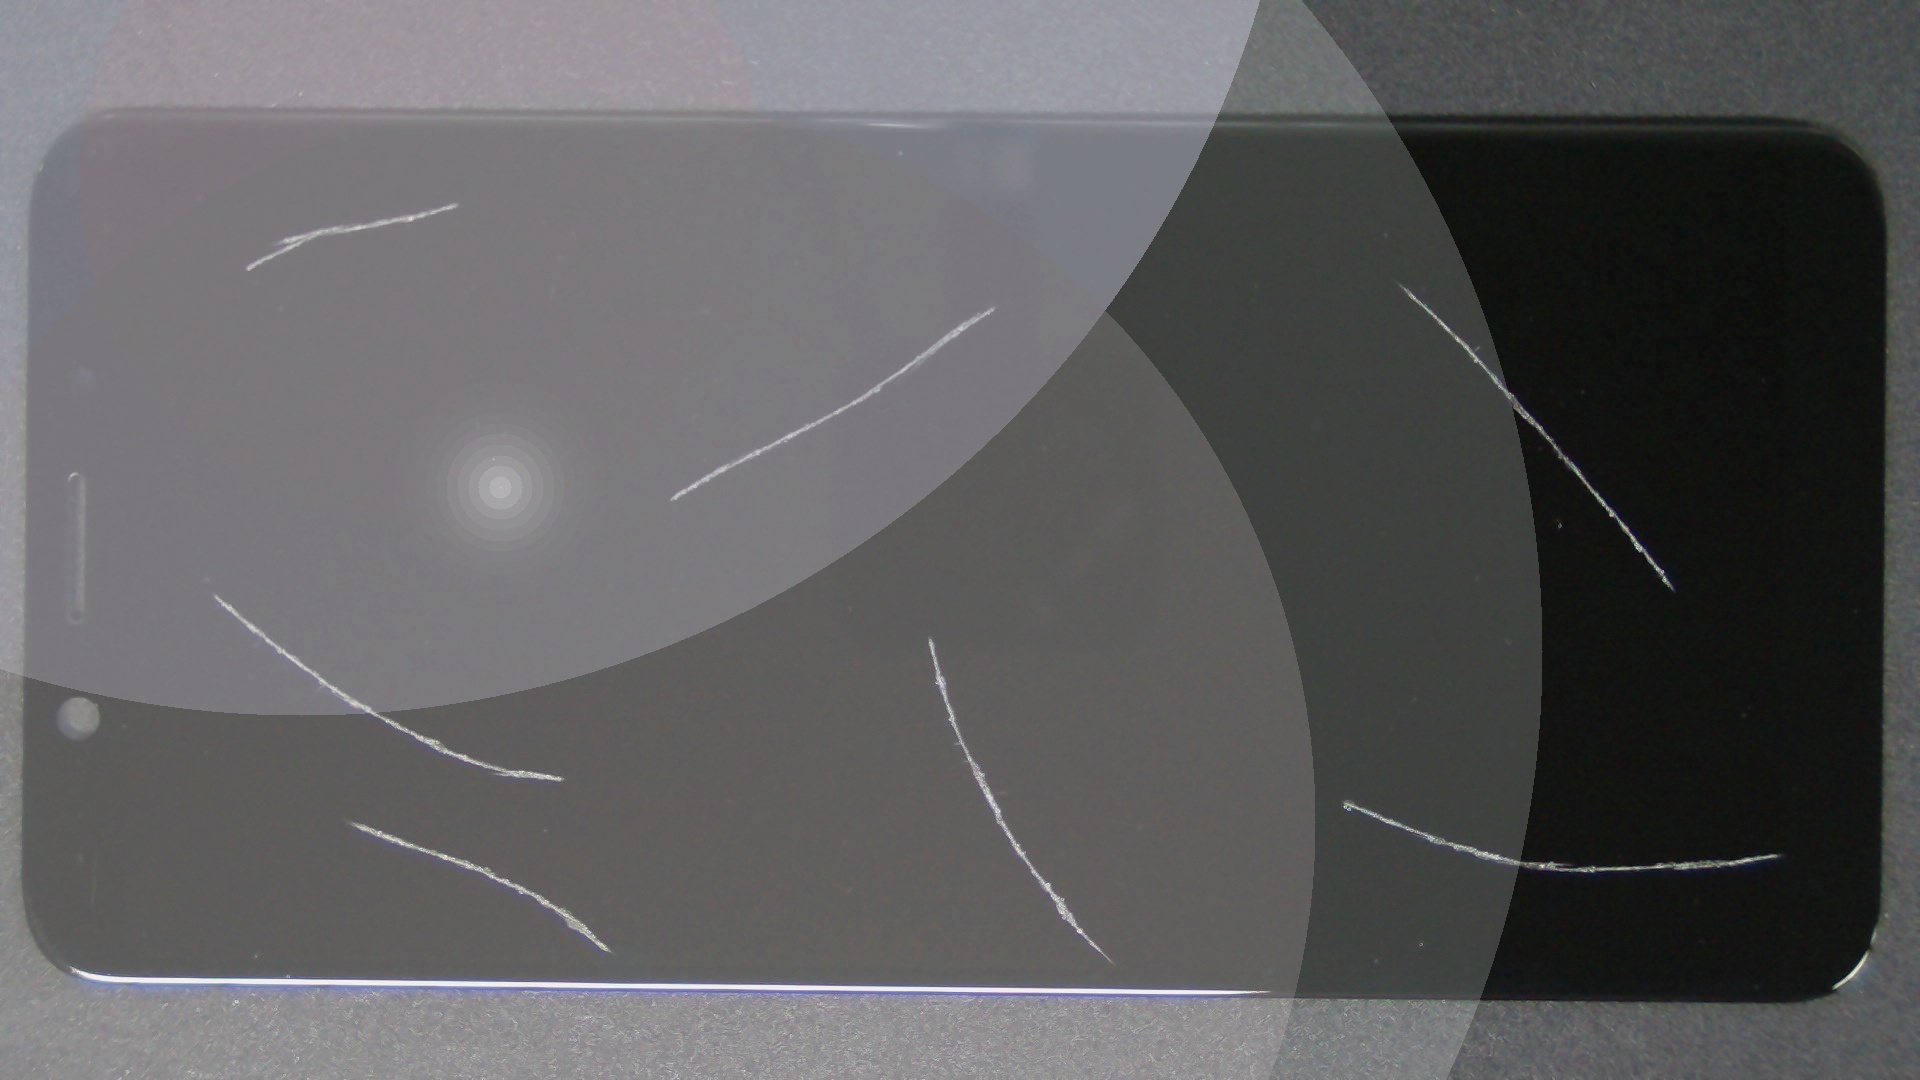oil: (674, 398, 1920, 1080), (463, 318, 1390, 955), (699, 141, 1920, 425), (497, 153, 1490, 459), (174, 409, 521, 1080), (105, 295, 316, 889), (228, 100, 680, 303)
